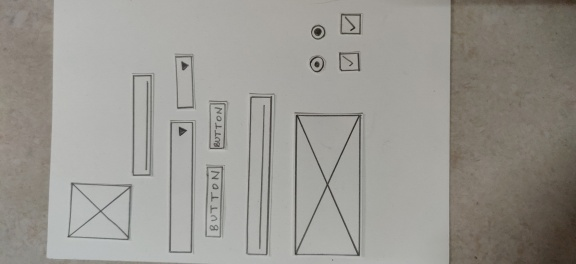button: (202, 161, 227, 240), (206, 98, 230, 154)
checkbox: (334, 49, 365, 76), (337, 10, 364, 39)
dropdown: (165, 118, 198, 257), (171, 51, 198, 113)
img: (288, 109, 368, 261), (66, 180, 134, 243)
radio: (308, 21, 328, 43), (307, 54, 326, 75)
text: (242, 89, 277, 257), (127, 70, 157, 177)
